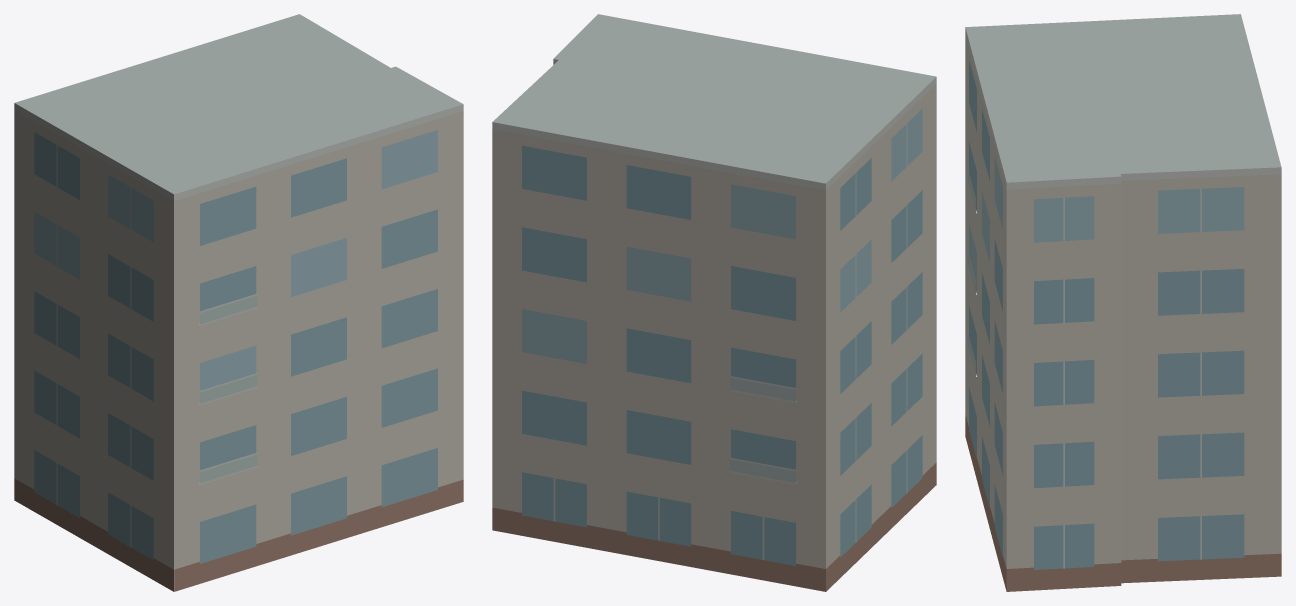
File: survey-upis-32613073.glb
3 views of the same model, side by side, from view 1: azimuth 30°, elevation 25°; view 2: azimuth 150°, elevation 25°; view 3: azimuth 270°, elevation 25° (orthographic). The views are drawn at different scales.
Parts seen in each view (by area): view 1: survey-upis-32613073.tmp; view 2: survey-upis-32613073.tmp; view 3: survey-upis-32613073.tmp.
Boxes of the visible parts, x1,y1,x2,y2 form: survey-upis-32613073.tmp: (14,14,463,591); survey-upis-32613073.tmp: (492,14,936,591); survey-upis-32613073.tmp: (965,14,1281,591).
Bounding box in the file's own units: 12.78 × 14.45 × 10.13.
